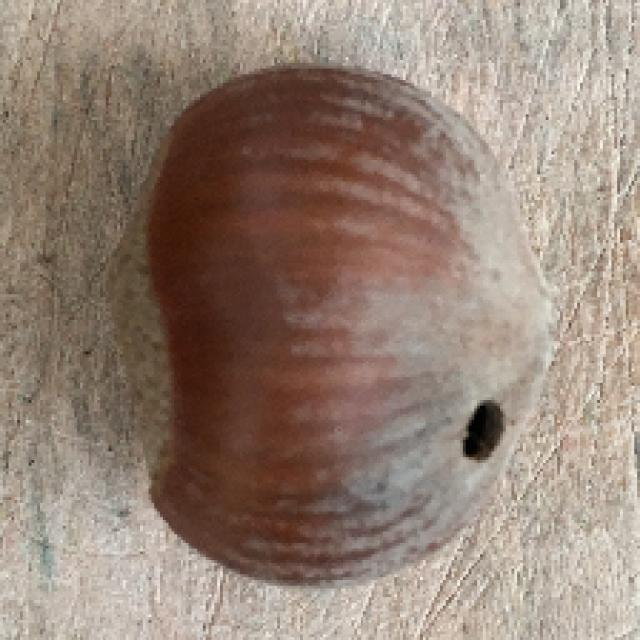damagedHazelnut: (101, 71, 562, 584)
